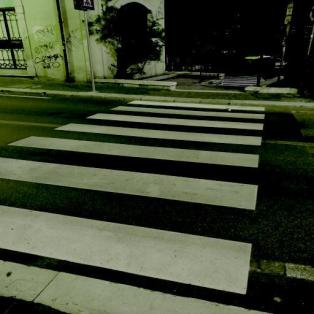Paso de Cebra: (5, 121, 267, 170)
